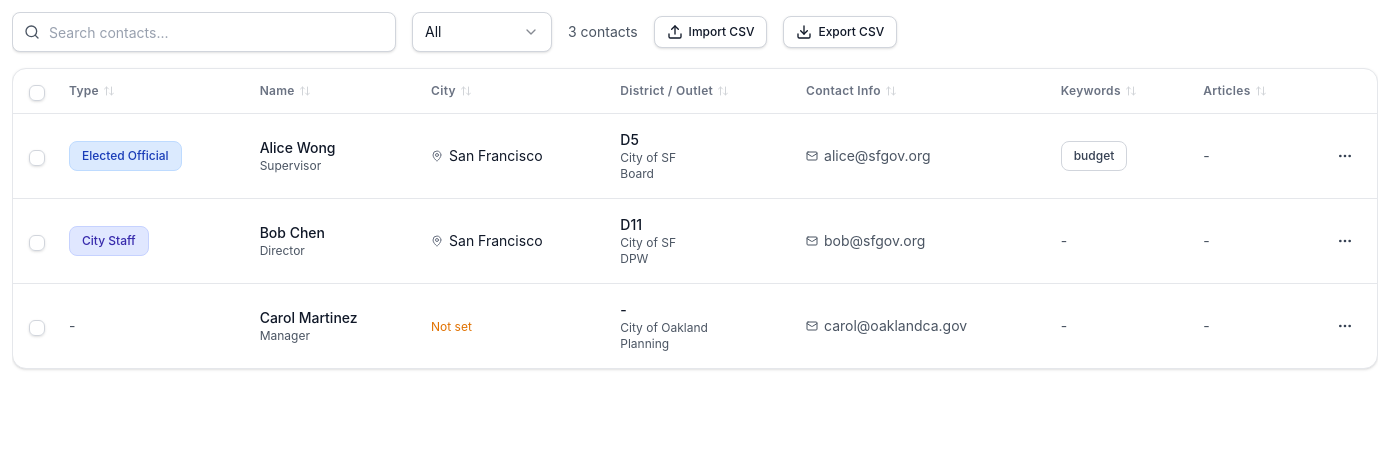
ContactsTable › selects individual contacts with checkboxes
The width and height of the screenshot is (1378, 461).
Note: Select first contact
Click the checkbox next to "Elected Official" at (37, 158), box [29,150,45,166]
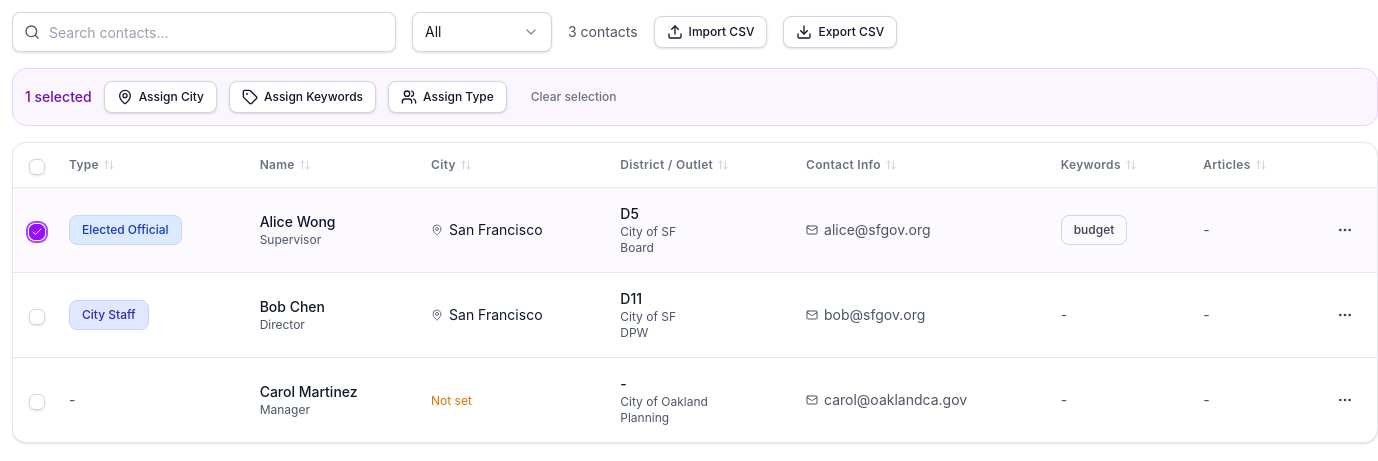
Result: the text "1 selected" is shown at [25,87,92,107]
